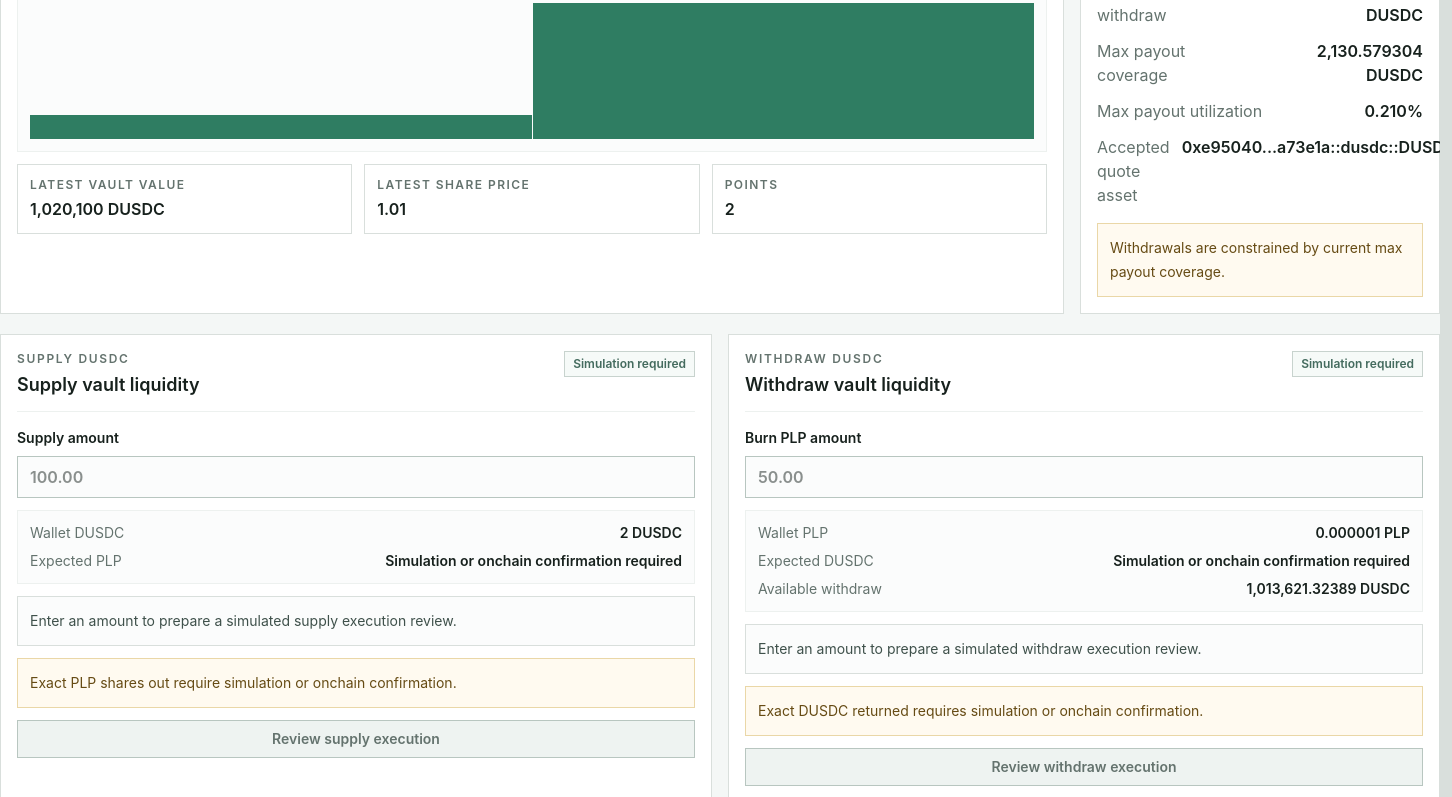
Test: VaultPage › blocks withdraw execution review when wallet PLP is insufficient
The image size is (1452, 797).
(page scrolled)
Type "1.5" into the field labelled "Burn PLP amount" at x=1084, y=477, box [745,456,1423,498]
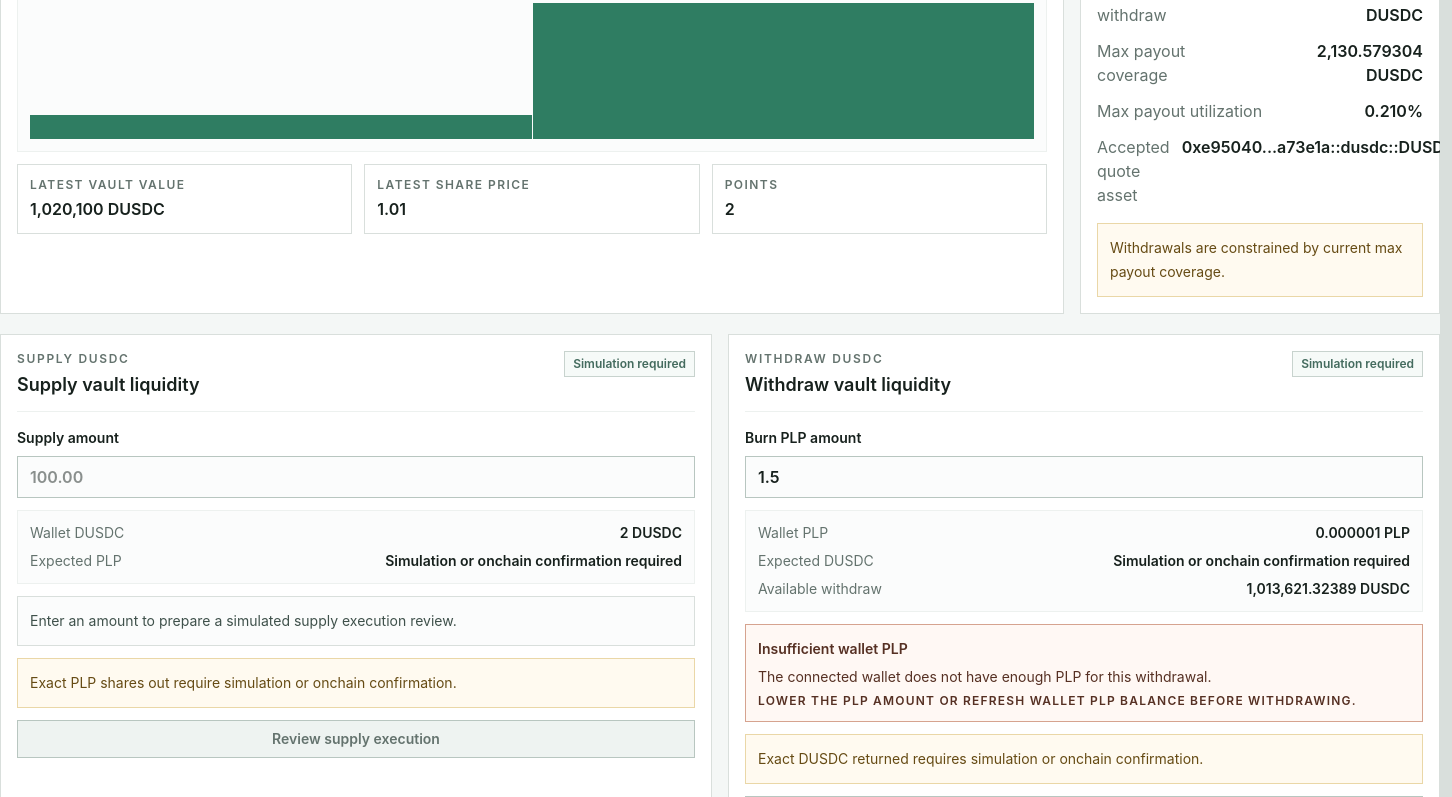
Check: the text "The connected wallet does not have enough PLP for this withdrawal." is shown, box [758,668,1211,685]
